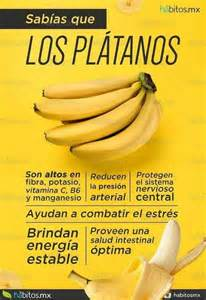banana: (68, 97, 164, 163), (42, 92, 144, 149), (33, 82, 142, 123), (39, 76, 140, 99)
